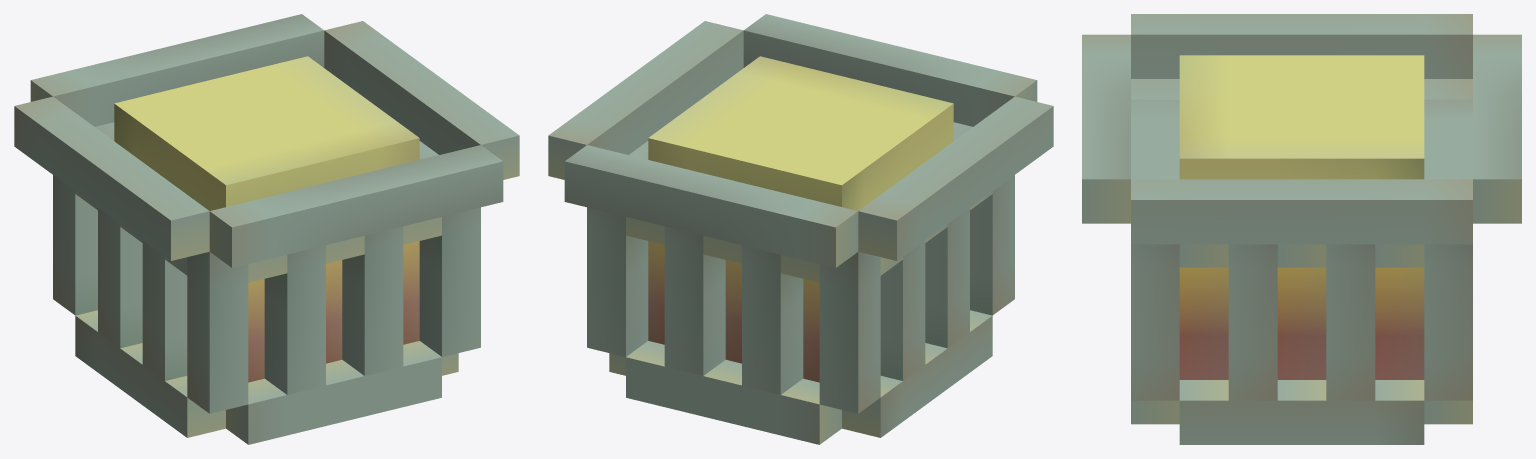
The model's file is ClothesBasket_A_00.obj.
3 renders of one model, left to right at view 1: azimuth 30°, elevation 25°; view 2: azimuth 150°, elevation 25°; view 3: azimuth 270°, elevation 25°, orthographic. The views are drawn at different scales.
Parts seen in each view (by area): view 1: ClothesBasket_A_00; view 2: ClothesBasket_A_00; view 3: ClothesBasket_A_00.
Boxes of the visible parts, x1,y1,x2,y2 form: ClothesBasket_A_00: [14, 14, 519, 444]; ClothesBasket_A_00: [548, 14, 1053, 444]; ClothesBasket_A_00: [1082, 14, 1521, 444].
Size of the model in its own units: 0.45 by 0.3 by 0.45.
